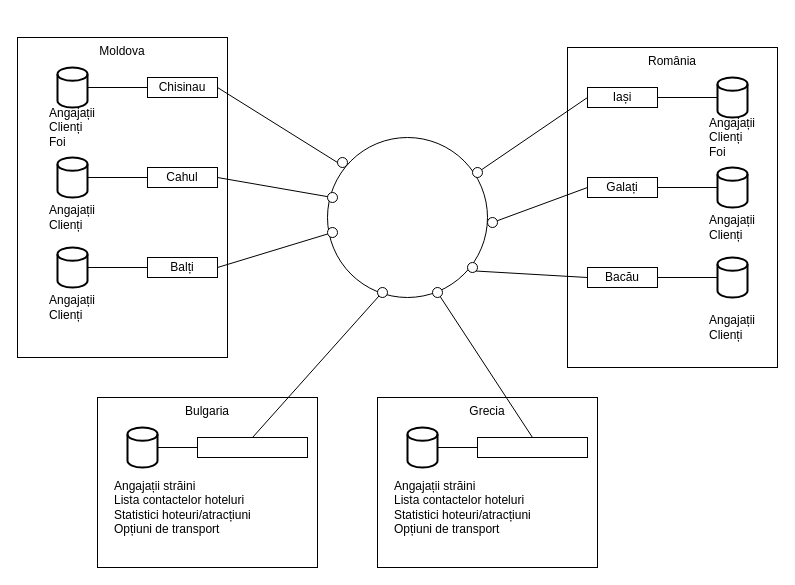
Some shapes in this 795 by 585 pixel diagram are drawn without their labels. The centre of each missing label's shape, as x and y in pixels:
"Oficiul din Bulgaria" goes at pixel 252 447.
"Oficiul din Grecia" goes at pixel 532 447.
"Rețea de comunicare" goes at pixel 407 217.
